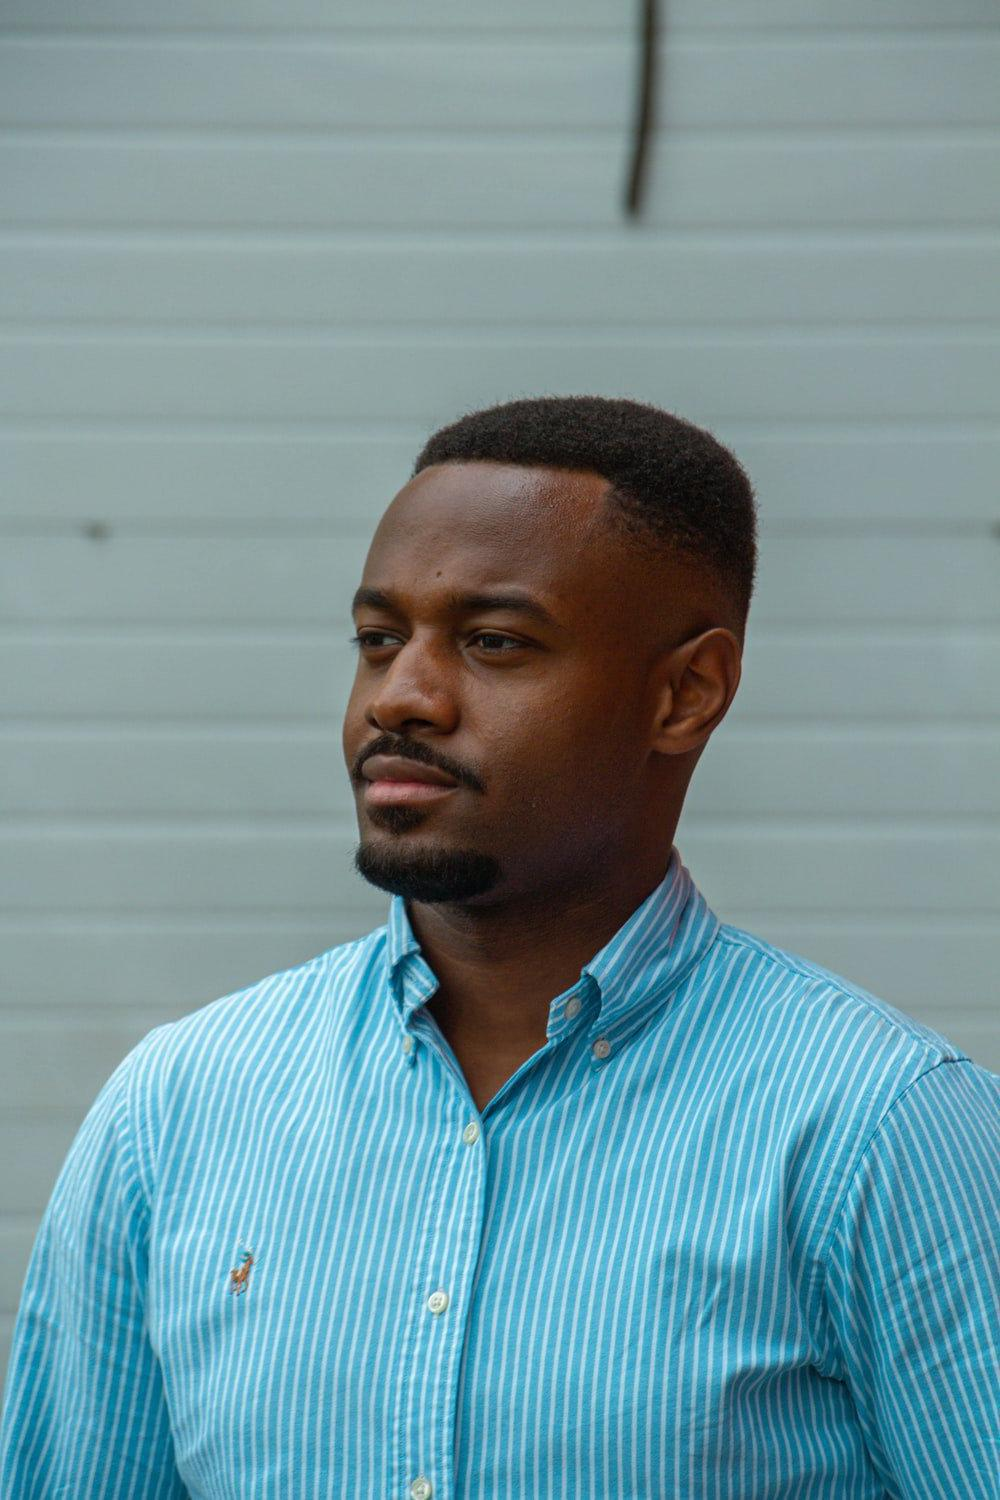Sober: (342, 464, 653, 881)
